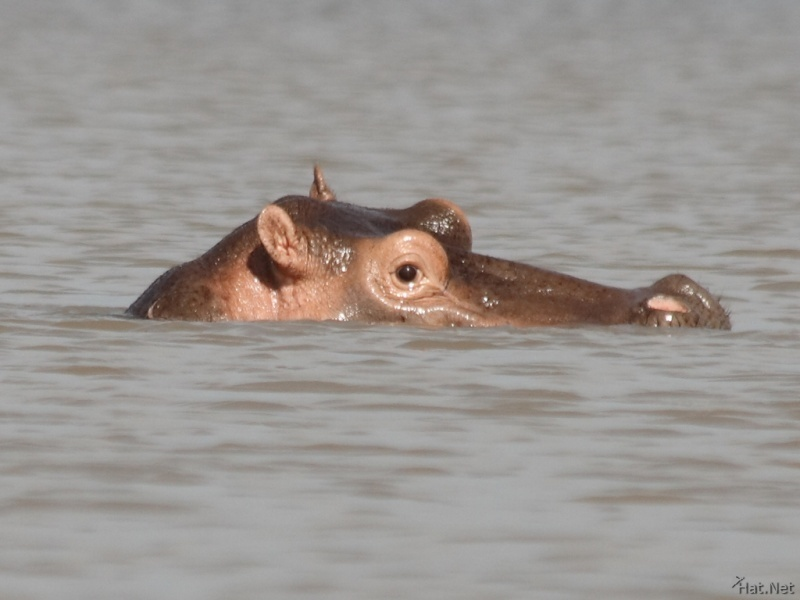hipopotamo: (104, 155, 762, 371)
